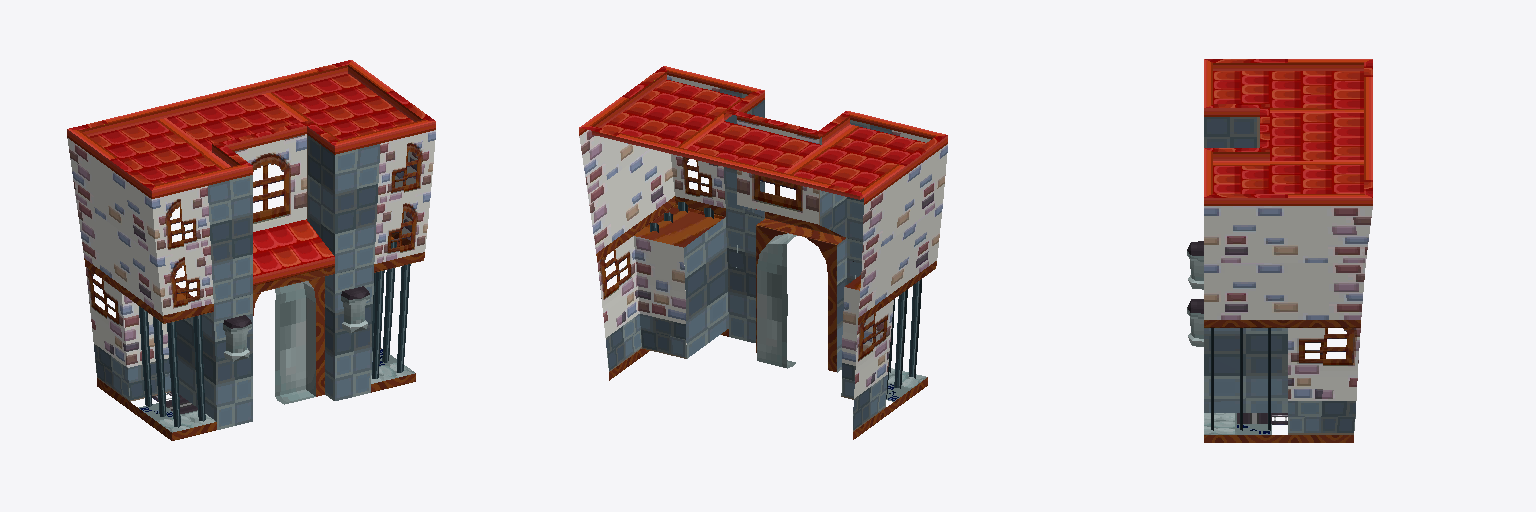
The picture shows the model from 3 angles: view 1: azimuth 30°, elevation 25°; view 2: azimuth 150°, elevation 25°; view 3: azimuth 270°, elevation 25°; orthographic projection.
Visible parts, largest first — view 1: vsn_mesh_0__mesh_0_.003, vsn_mesh_1__mesh_1_.003, vsn_mesh_2__mesh_2_.003; view 2: vsn_mesh_0__mesh_0_.003, vsn_mesh_1__mesh_1_.003; view 3: vsn_mesh_0__mesh_0_.003, vsn_mesh_1__mesh_1_.003, vsn_mesh_2__mesh_2_.003.
Part boxes in pixels (x1,y1,x2,y2): vsn_mesh_0__mesh_0_.003: (67,130,435,440); vsn_mesh_1__mesh_1_.003: (67,60,435,427); vsn_mesh_2__mesh_2_.003: (223,286,369,361); vsn_mesh_0__mesh_0_.003: (579,75,947,439); vsn_mesh_1__mesh_1_.003: (579,66,947,398); vsn_mesh_0__mesh_0_.003: (1204,117,1372,442); vsn_mesh_1__mesh_1_.003: (1204,59,1372,430); vsn_mesh_2__mesh_2_.003: (1187,241,1203,346).
Size of the model in its own units: 1.4 by 1.2 by 0.7917.
3 materials, 2 textured.